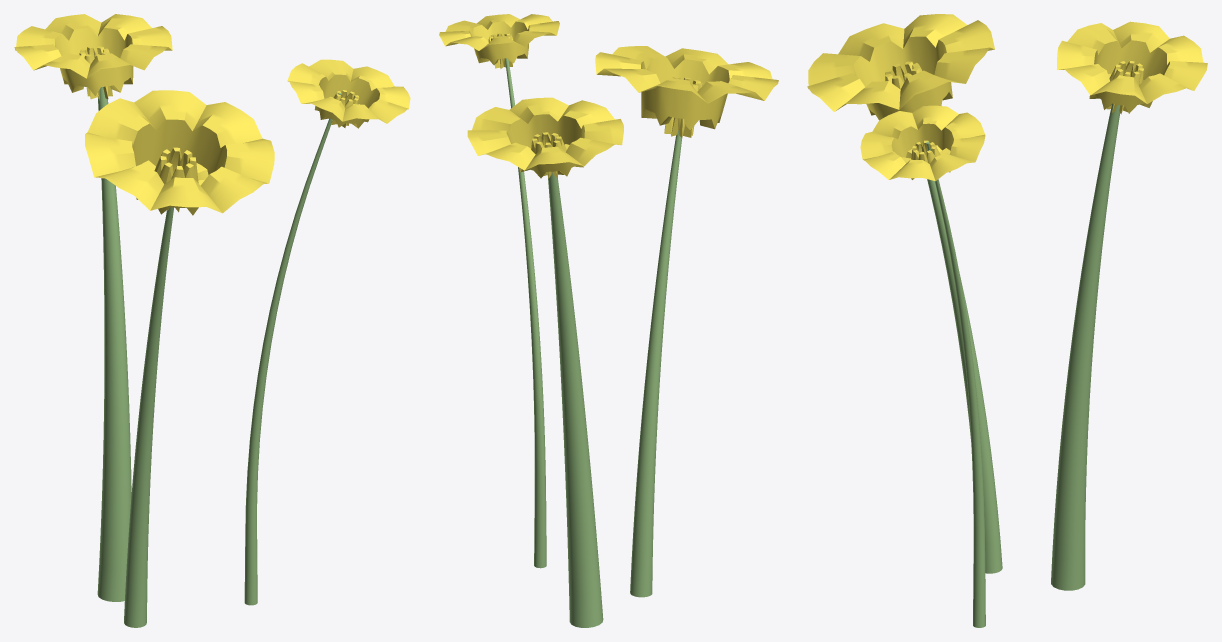
File: flowers-yellow2.fbx
3 views of the same model, side by side, from view 1: azimuth 30°, elevation 25°; view 2: azimuth 150°, elevation 25°; view 3: azimuth 270°, elevation 25° (orthographic). The views are drawn at different scales.
Parts seen in each view (by area): view 1: Disc_3, Cone_2, Disc_2, Cone_3, Disc, Cone; view 2: Cone_2, Disc_3, Disc_2, Cone_3, Cone, Disc; view 3: Disc_3, Cone_2, Disc_2, Disc, Cone, Cone_3.
Boxes of the visible parts, x1,y1,x2,y2 form: Disc_3: [85, 90, 274, 215]; Cone_2: [97, 87, 131, 601]; Disc_2: [14, 14, 172, 100]; Cone_3: [124, 207, 173, 627]; Disc: [287, 59, 410, 128]; Cone: [244, 92, 341, 605]; Cone_2: [548, 172, 603, 627]; Disc_3: [595, 46, 778, 137]; Disc_2: [467, 97, 623, 178]; Cone_3: [630, 130, 681, 597]; Cone: [505, 58, 546, 568]; Disc: [439, 14, 559, 68]; Disc_3: [807, 14, 994, 120]; Cone_2: [1051, 103, 1120, 590]; Disc_2: [1057, 21, 1207, 114]; Disc: [860, 105, 985, 181]; Cone: [926, 141, 985, 627]; Cone_3: [927, 179, 1002, 573].
Bounding box in the file's own units: 13.51 × 21.66 × 14.69.
